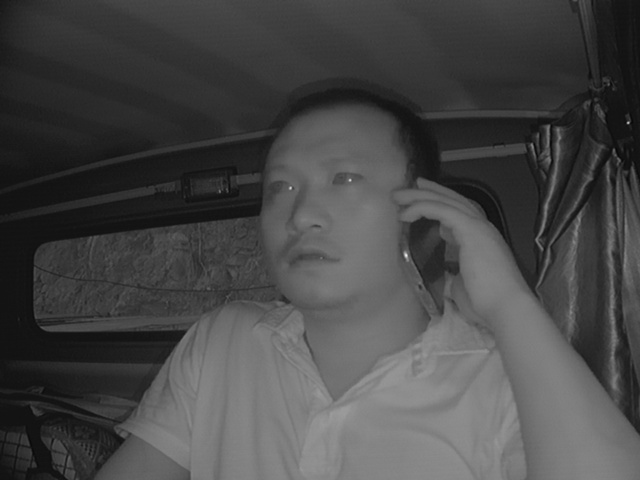hand: (396, 178, 512, 320)
